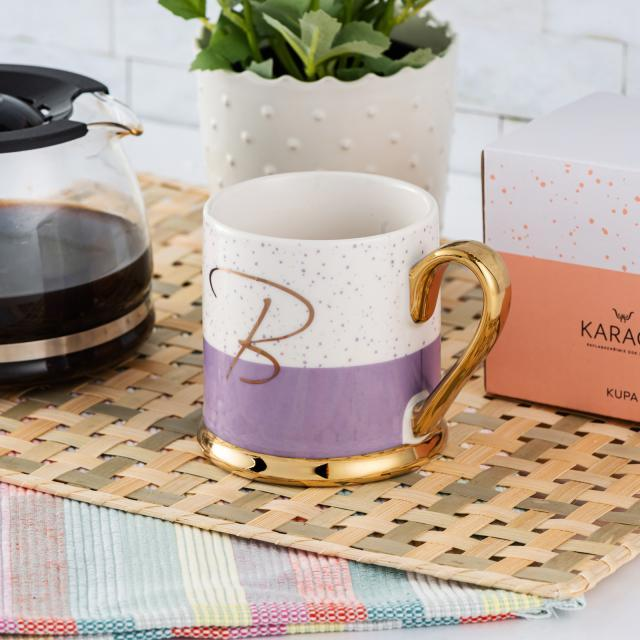Coffee Mug: (197, 166, 513, 492)
